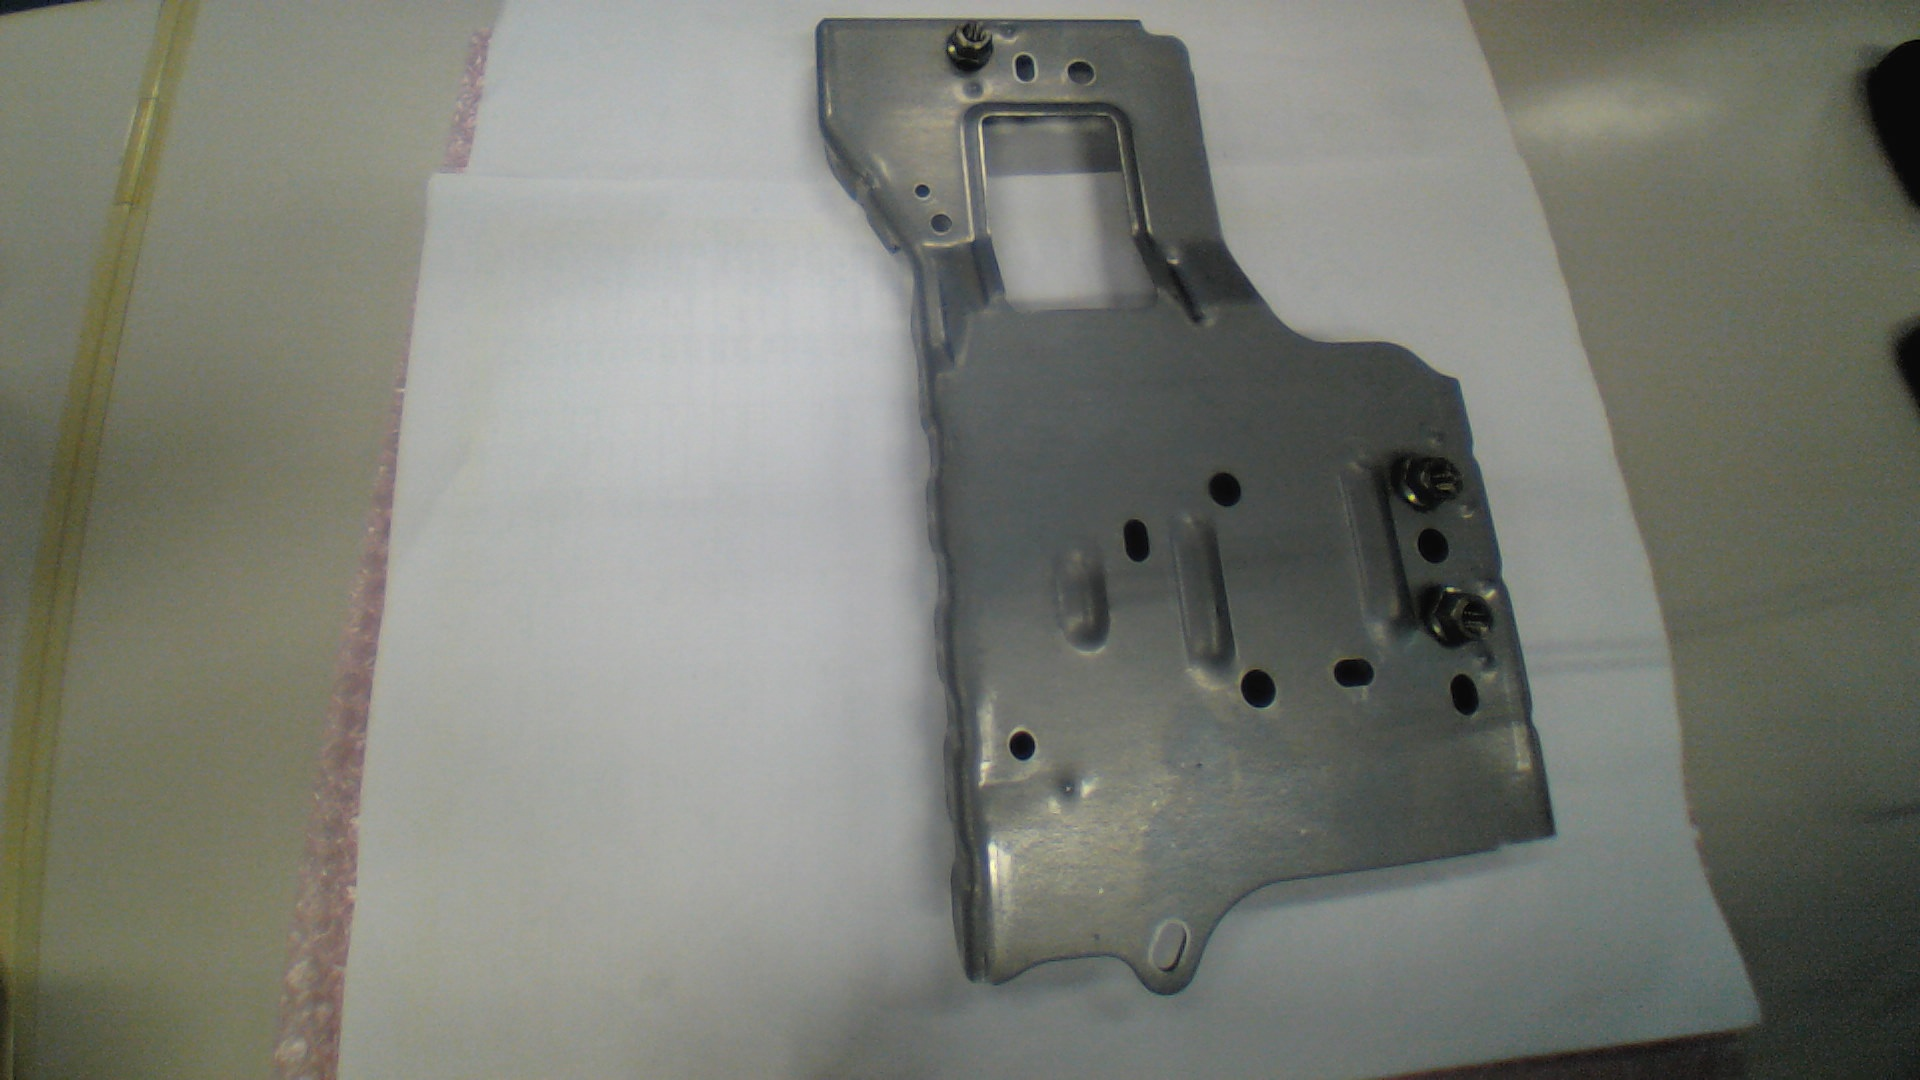dog: (1390, 450, 1465, 512), (1425, 587, 1495, 649), (945, 21, 996, 74)
